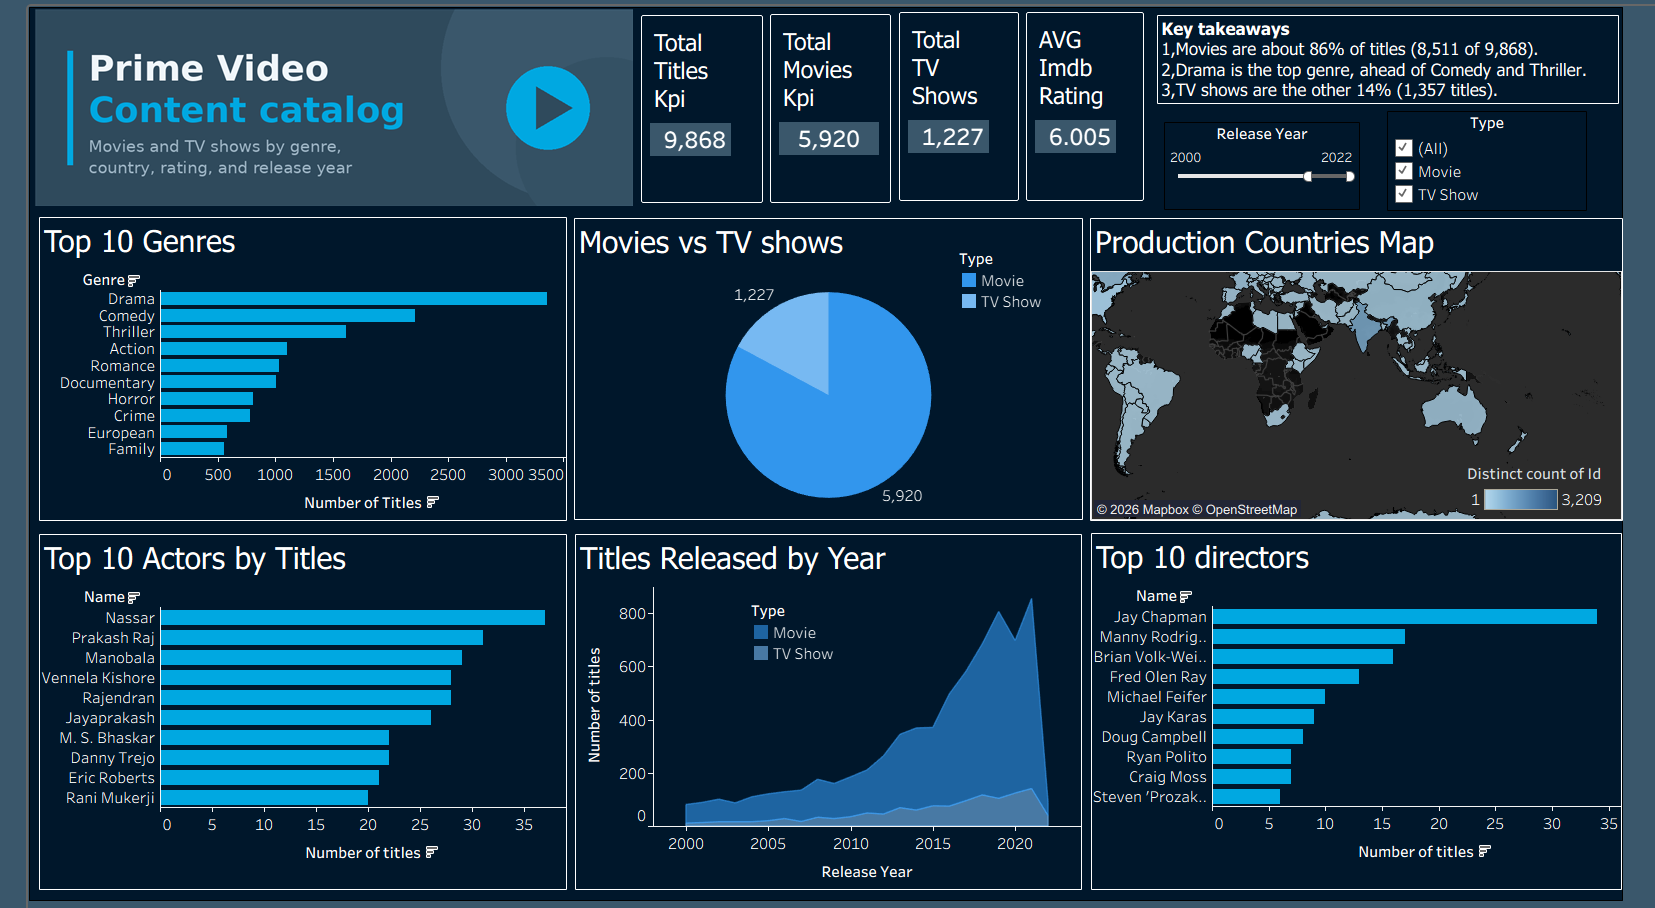

The page's visual inventory and layout, read from the dashboard file:
{"tool":"tableau","page":{"name":"Dashboard 1","canvas":[1600,900],"ordinal":0},"visuals":[{"type":"image","param":"Image/prime_video_banner.png","box":[9,5,598,198]},{"type":"worksheet","title":"Total TV Shows KPI","mark":"Automatic","box":[870,5,126,195]},{"type":"worksheet","title":"Average IMDb Rating KPI","mark":"Automatic","box":[997,5,124,195]},{"type":"worksheet","title":"Total Movies KPI","mark":"Automatic","box":[741,7,127,195]},{"type":"worksheet","title":"Total Titles KPI","mark":"Automatic","box":[612,8,128,194]},{"type":"text","box":[1131,11,462,89]},{"type":"filter","title":"Titles Released by Year","param":"[federated.0dbn6md0l9l9js1cx6l5v001yvwv].[none:type:nk]","box":[1361,107,200,100]},{"type":"filter","title":"Titles Released by Year","param":"[federated.0dbn6md0l9l9js1cx6l5v001yvwv].[none:release_year:qk]","box":[1138,118,196,88]},{"type":"worksheet","title":"Top 10 genres","mark":"Automatic","rows":["genre"],"cols":["id (title!genres)"],"box":[13,213,528,304]},{"type":"worksheet","title":"Content Type Donut","mark":"Pie","box":[548,214,509,302]},{"type":"worksheet","title":"Production Countries Map","mark":"Automatic","box":[1064,214,533,303]},{"type":"legend","title":"Content Type Donut","param":"[federated.0dbn6md0l9l9js1cx6l5v001yvwv].[none:type:nk]","box":[933,244,91,83]},{"type":"legend","title":"Production Countries Map","param":"[federated.0dbn6md0l9l9js1cx6l5v001yvwv].[ctd:id:qk]","box":[1441,459,140,59]},{"type":"worksheet","title":"Directors Analysis","mark":"Automatic","rows":["name"],"cols":["id (credits!clean)"],"box":[1065,529,531,357]},{"type":"worksheet","title":"Top Actors","mark":"Automatic","rows":["name"],"cols":["id (credits!clean)"],"box":[13,530,528,356]},{"type":"worksheet","title":"Titles Released by Year","mark":"Area","rows":["id"],"cols":["release_year"],"box":[549,530,507,356]},{"type":"legend","title":"Titles Released by Year","param":"[federated.0dbn6md0l9l9js1cx6l5v001yvwv].[none:type:nk]","box":[725,596,107,68]}]}

Visuals, with their boxes in screenshot pixels (x1, y1, x2, y2), scaled from the page's 1600x900 canvas onto the 1655x908 screenshot:
image: 9, 5, 628, 205
"Total TV Shows KPI" worksheet: 900, 5, 1030, 202
"Average IMDb Rating KPI" worksheet: 1031, 5, 1160, 202
"Total Movies KPI" worksheet: 766, 7, 898, 204
"Total Titles KPI" worksheet: 633, 8, 765, 204
text: 1170, 11, 1648, 101
"Titles Released by Year" filter: 1408, 108, 1615, 209
"Titles Released by Year" filter: 1177, 119, 1380, 208
"Top 10 genres" worksheet: 13, 215, 560, 522
"Content Type Donut" worksheet (Pie marks): 567, 216, 1093, 521
"Production Countries Map" worksheet: 1101, 216, 1652, 522
"Content Type Donut" legend: 965, 246, 1059, 330
"Production Countries Map" legend: 1491, 463, 1635, 523
"Directors Analysis" worksheet: 1102, 534, 1651, 894
"Top Actors" worksheet: 13, 535, 560, 894
"Titles Released by Year" worksheet (Area marks): 568, 535, 1092, 894
"Titles Released by Year" legend: 750, 601, 861, 670
